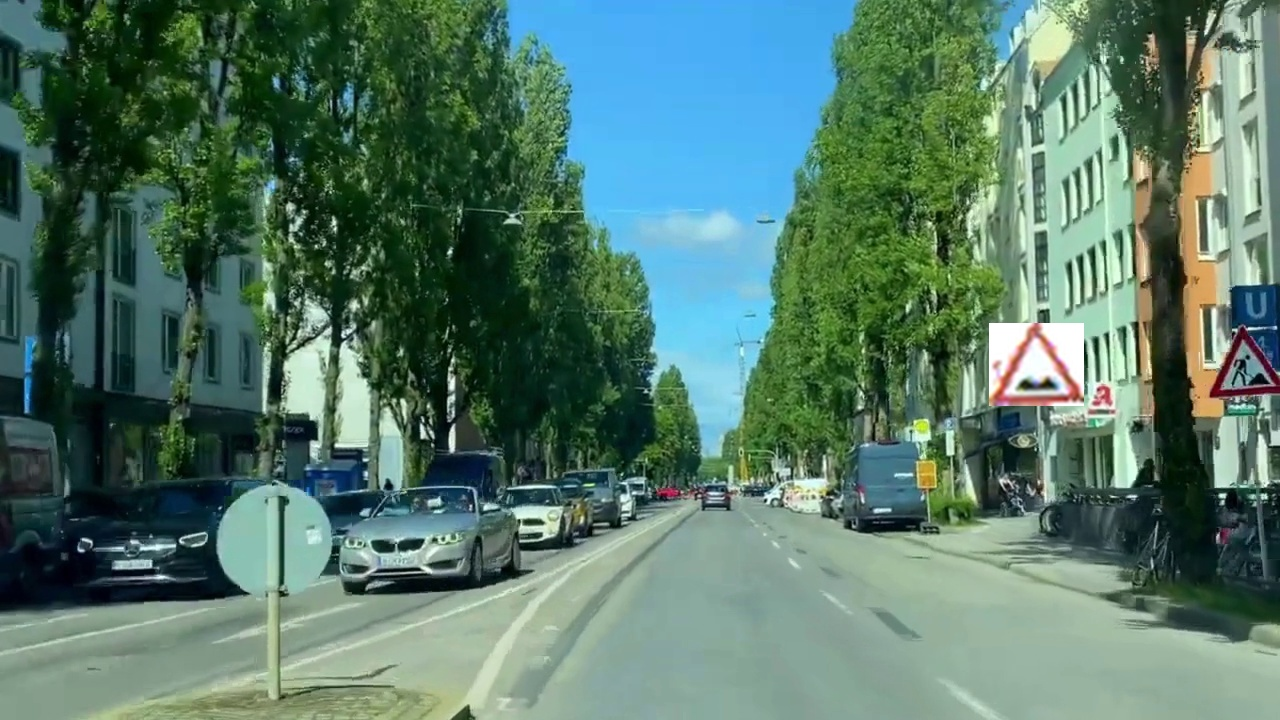Bumpy road: (989, 323, 1084, 406)
